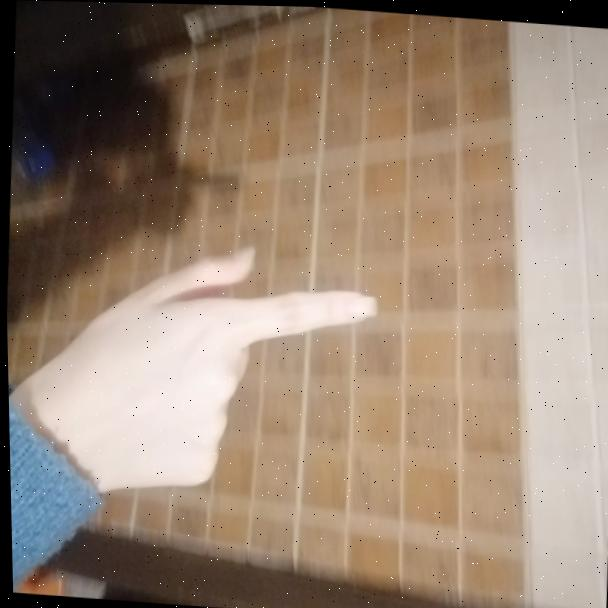five: (60, 225, 394, 505)
